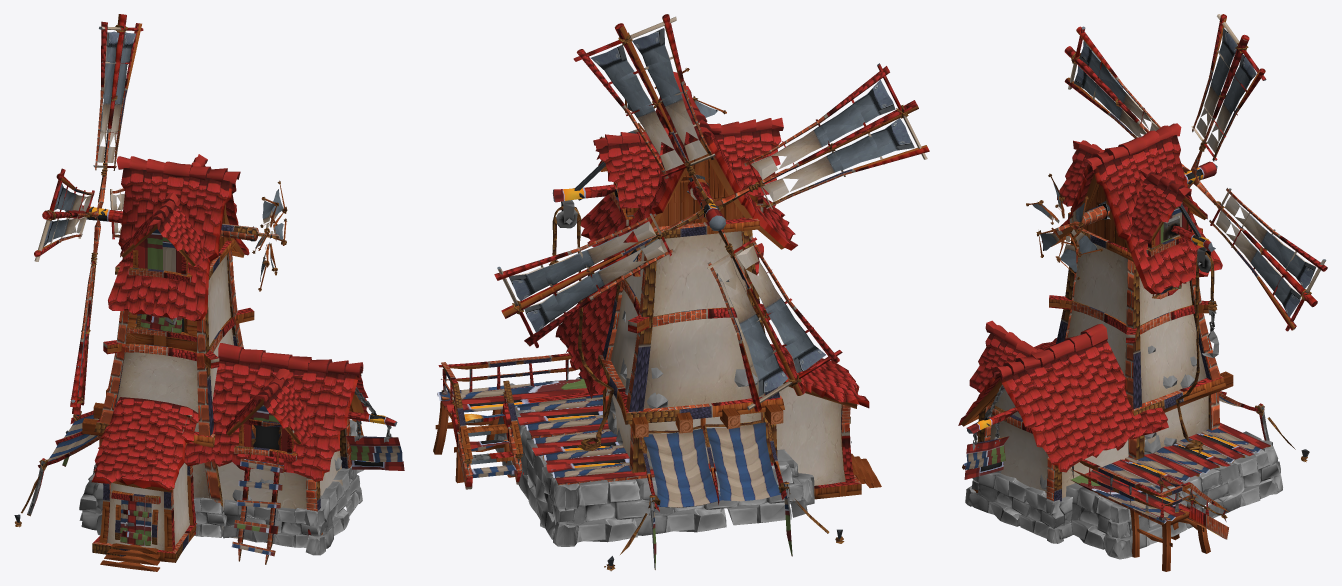
3 renders of one model, left to right at view 1: azimuth 30°, elevation 25°; view 2: azimuth 150°, elevation 25°; view 3: azimuth 270°, elevation 25°, orthographic. The views are drawn at different scales.
Visible parts, largest first — view 1: Vetrenjaca; view 2: Vetrenjaca; view 3: Vetrenjaca.
Boxes of the visible parts, left/top/right/bottom form: Vetrenjaca: left=14, top=14, right=404, bottom=571; Vetrenjaca: left=433, top=14, right=929, bottom=571; Vetrenjaca: left=958, top=14, right=1327, bottom=571.
Size of the model in its own units: 0.0691 by 0.0797 by 0.0593.
Materials: 5 (5 with a texture image).
